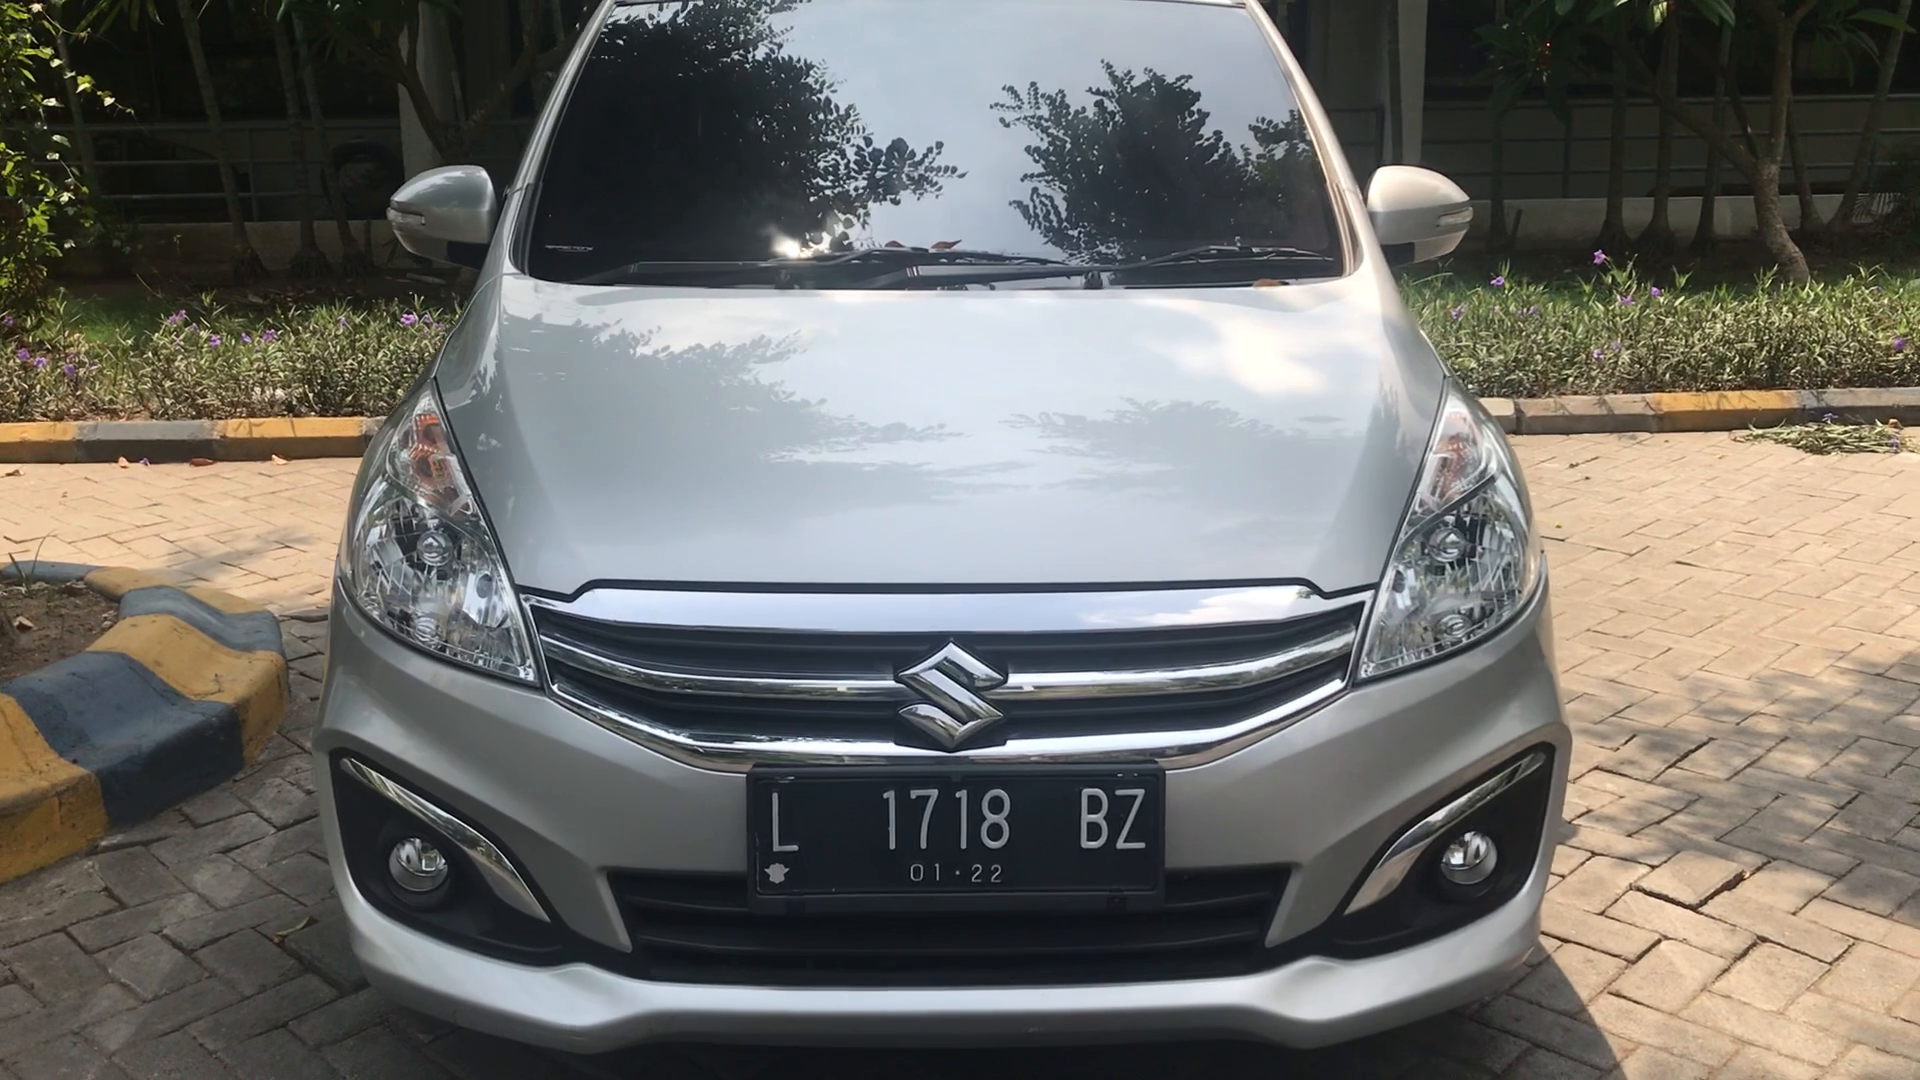plate: (747, 762, 1165, 910)
